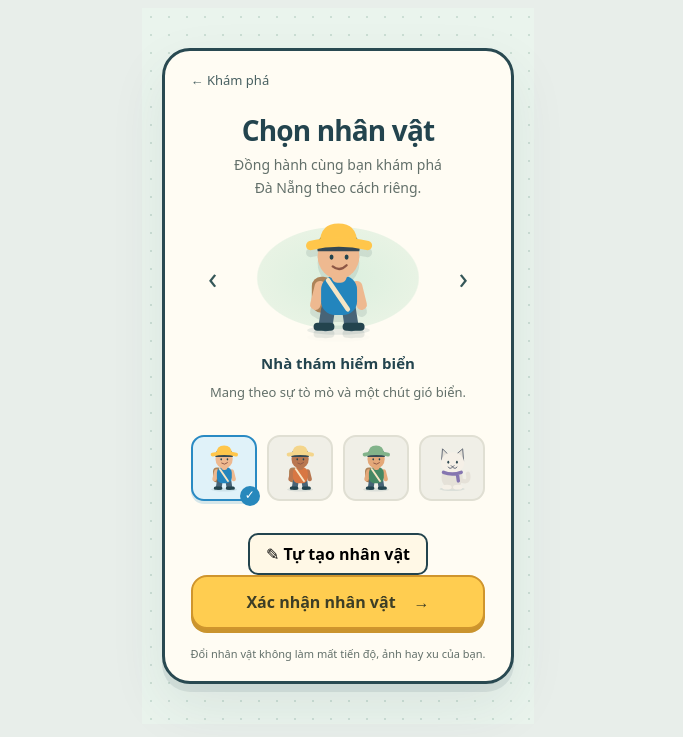
Test: shows storage failure without navigating away or replacing a saved avatar
Click the button named "Người bạn mây" at (452, 468), box [419,435,485,501]
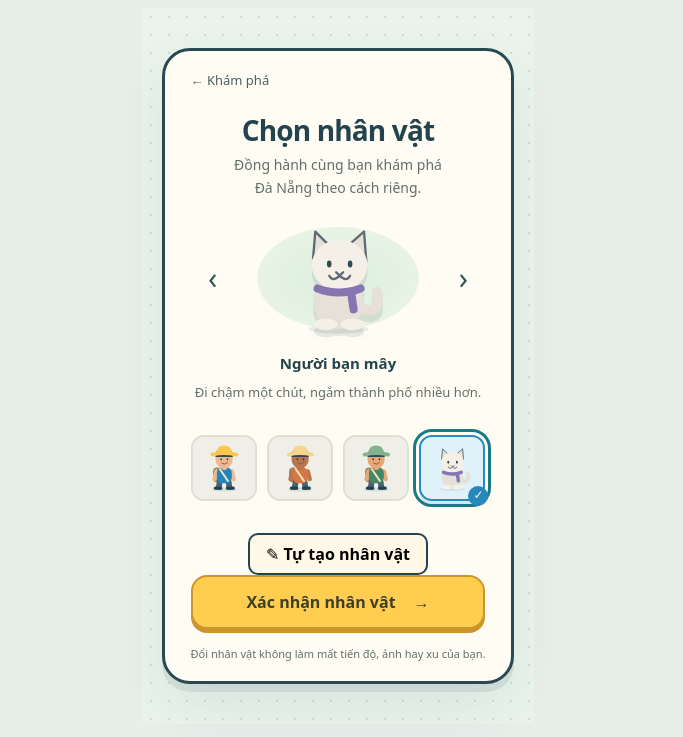
Click the button "Xác nhận nhân vật →" at (338, 602), box [191,575,485,629]
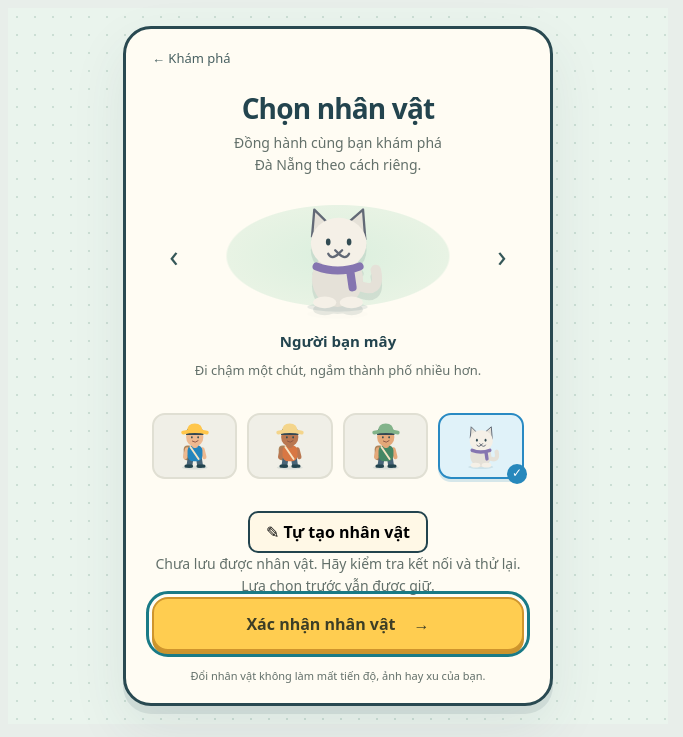
Expected: the message shows "Chưa lưu được nhân vật", [155,554,520,595]
